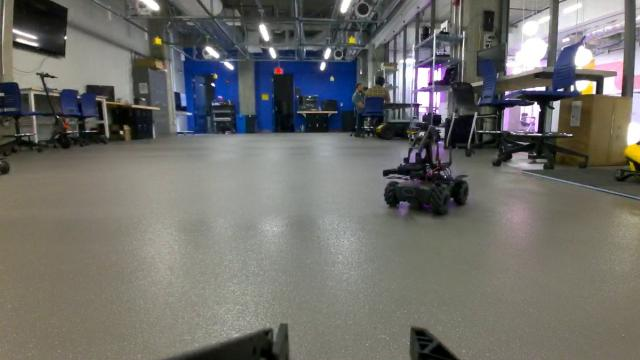robot: (376, 125, 469, 220)
